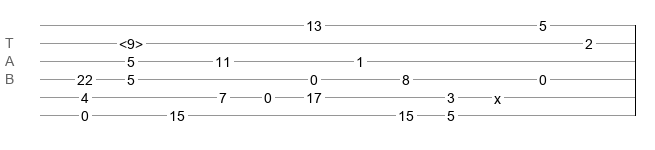0: (81, 108, 89, 118), (264, 90, 272, 100), (310, 72, 318, 82), (539, 72, 547, 82)
1: (356, 54, 364, 64)
11: (215, 54, 231, 64)
13: (306, 18, 322, 28)
15: (169, 108, 185, 118), (398, 108, 414, 118)
17: (306, 90, 322, 100)
2: (585, 36, 593, 46)
22: (77, 72, 93, 82)
3: (447, 90, 455, 100)
4: (81, 90, 89, 100)
5: (127, 54, 135, 64), (127, 72, 135, 82), (447, 108, 455, 118), (539, 18, 547, 28)
7: (219, 90, 227, 100)
8: (402, 72, 410, 82)
harmonic: (119, 36, 143, 46)
x: (494, 91, 501, 99)
